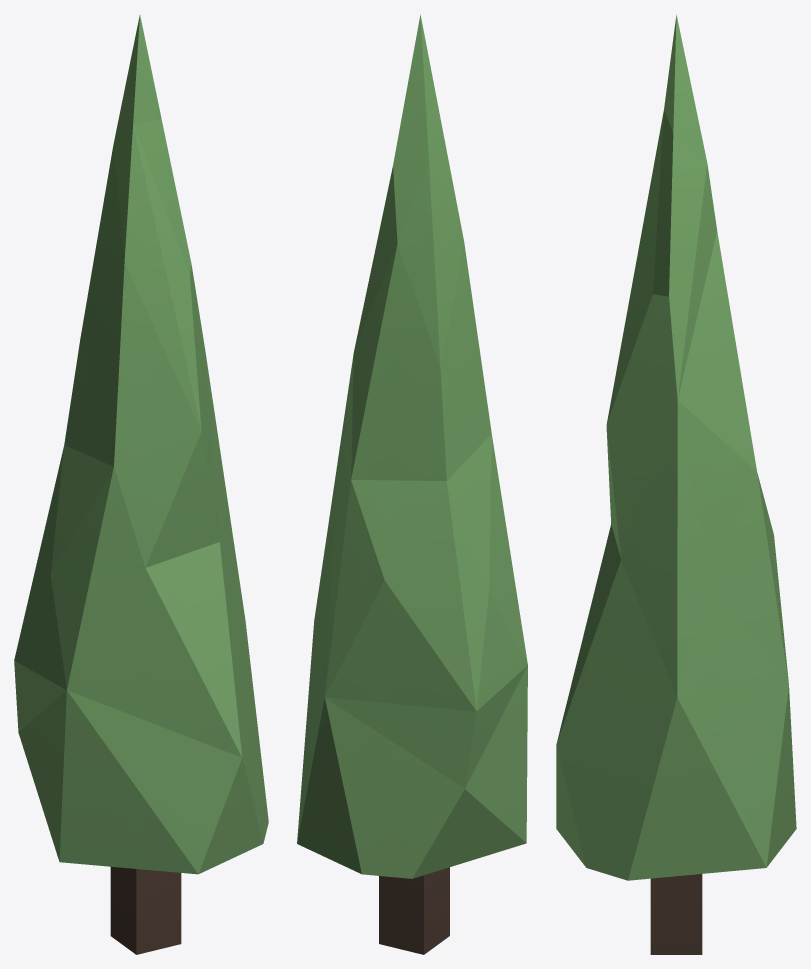
Rendered from elka.fbx.
3 views of the same model, side by side, from view 1: azimuth 30°, elevation 25°; view 2: azimuth 150°, elevation 25°; view 3: azimuth 270°, elevation 25° (orthographic).
Parts seen in each view (by area): view 1: elka; view 2: elka; view 3: elka.
Boxes of the visible parts, x1,y1,x2,y2 form: elka: (14,15,268,954); elka: (297,14,527,954); elka: (556,14,796,954).
Bounding box in the file's own units: 1.28 × 5.68 × 1.33.
